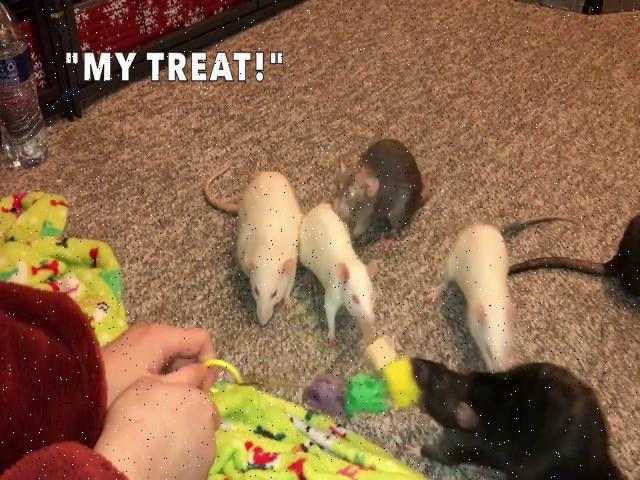Tikus: (414, 356, 609, 480), (444, 219, 518, 369), (236, 168, 302, 330), (304, 200, 378, 330), (337, 137, 426, 237)
